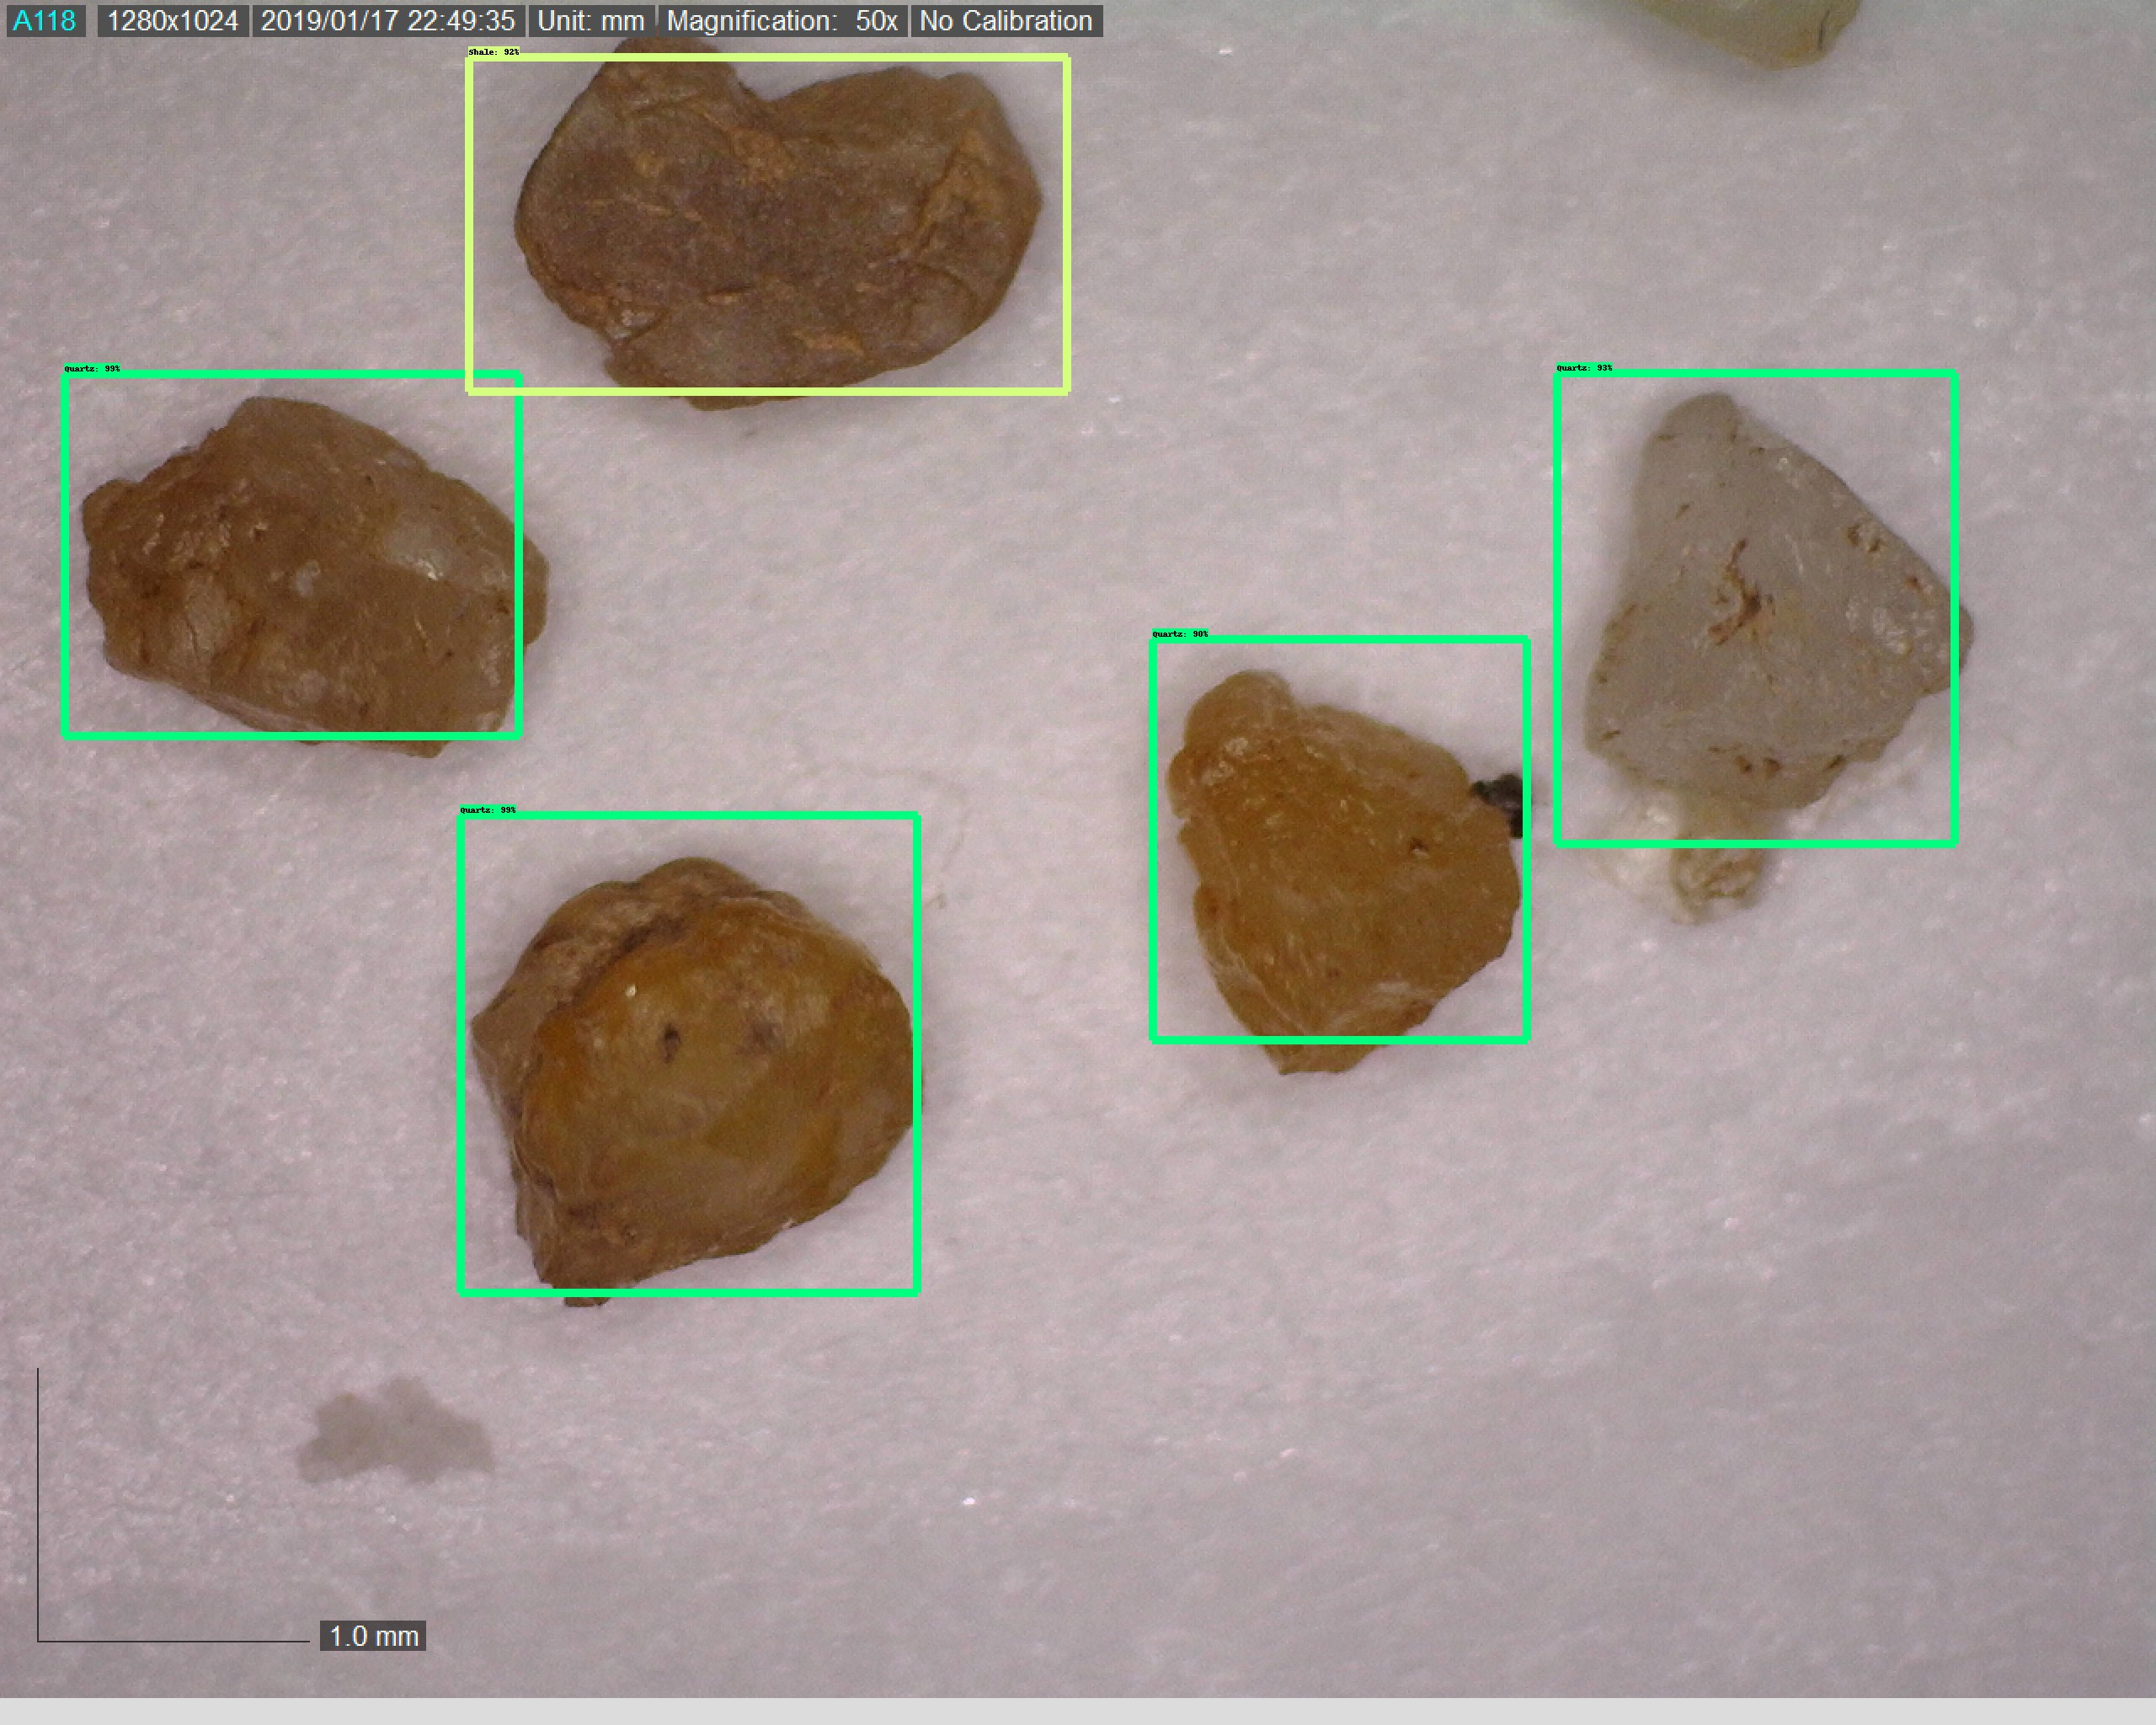Quartz: (1580, 394, 1987, 917), (496, 35, 1044, 412), (1153, 657, 1540, 1098)
